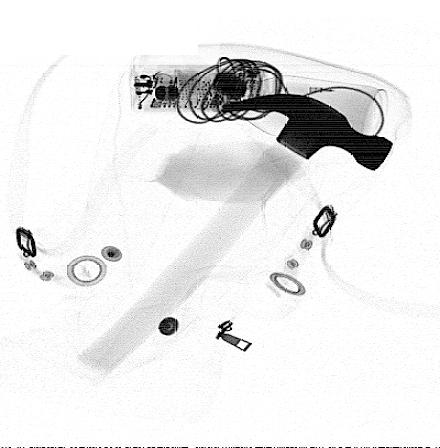Hammer: (79, 93, 393, 376)
